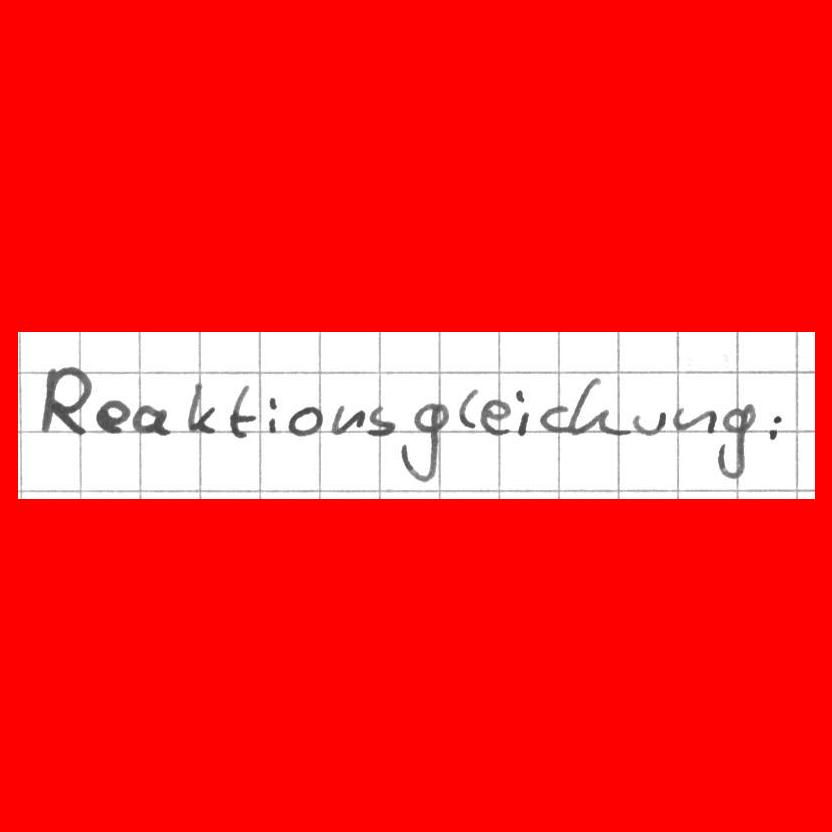Char: (398, 400, 451, 485), (40, 366, 90, 436), (714, 404, 754, 480), (571, 377, 619, 438), (184, 383, 219, 434), (227, 383, 256, 439), (671, 405, 719, 435), (132, 401, 170, 438), (94, 398, 131, 435), (479, 398, 513, 436), (288, 405, 323, 438), (630, 408, 666, 438), (331, 403, 363, 436), (456, 387, 478, 430), (539, 403, 568, 435), (367, 405, 394, 437), (513, 388, 530, 438), (765, 410, 784, 444), (265, 395, 280, 432)
